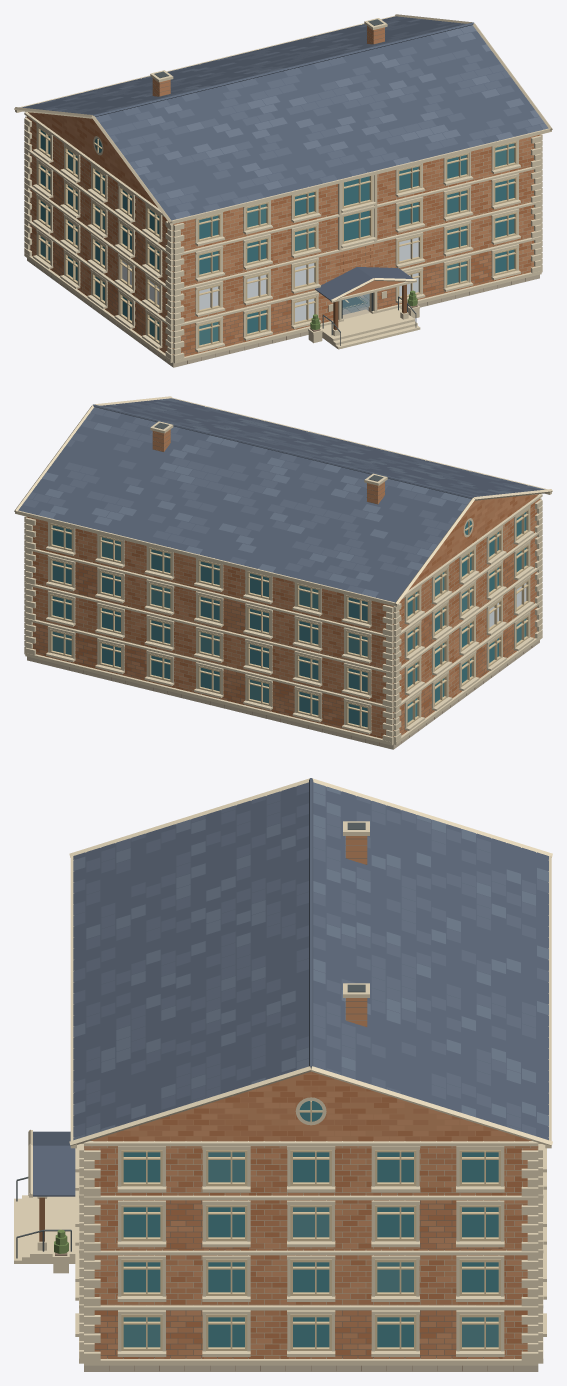
Rendered from SM_Dormitory_Blockout.fbx.
3 renders of one model, top to bottom at view 1: azimuth 30°, elevation 25°; view 2: azimuth 150°, elevation 25°; view 3: azimuth 270°, elevation 25°, orthographic. The views are drawn at different scales.
Parts seen in each view (by area): view 1: DORM_26_Slate_Courses.001, DORM_20_Brick_Front.001, DORM_25_Pitched_Roof.001, DORM_21_Stone_Strings.001, DORM_20_Brick_Left.001, DORM_03_Front_Windows_2.001, DORM_03_Front_Windows_3.001, DORM_03_Front_Windows_4.001, DORM_03_Front_Windows_1.001, DORM_22_Corner_Quoins.001, DORM_28_Stone_Bargeboards.001, DORM_03_Left_Windows_3.001 (+23 smaller); view 2: DORM_26_Slate_Courses.001, DORM_20_Brick_Rear.001, DORM_25_Pitched_Roof.001, DORM_21_Stone_Strings.001, DORM_20_Brick_Left.001, DORM_03_Rear_Windows_1.001, DORM_03_Rear_Windows_3.001, DORM_03_Rear_Windows_2.001, DORM_03_Rear_Windows_4.001, DORM_22_Corner_Quoins.001, DORM_28_Stone_Bargeboards.001, DORM_03_Left_Windows_3.001 (+15 smaller); view 3: DORM_26_Slate_Courses.001, DORM_20_Brick_Right.001, DORM_25_Pitched_Roof.001, DORM_27_Gable_Brick.001, DORM_21_Stone_Strings.001, DORM_03_Right_Windows_3.001, DORM_03_Right_Windows_1.001, DORM_03_Right_Windows_4.001, DORM_03_Right_Windows_2.001, DORM_22_Corner_Quoins.001, DORM_28_Stone_Bargeboards.001, DORM_01_Plinth.001 (+9 smaller).
Boxes of the visible parts, x1=… form: DORM_26_Slate_Courses.001: x1=22, y1=16, x2=548, y2=220; DORM_20_Brick_Front.001: x1=173, y1=134, x2=540, y2=356; DORM_25_Pitched_Roof.001: x1=24, y1=17, x2=544, y2=218; DORM_21_Stone_Strings.001: x1=24, y1=111, x2=542, y2=363; DORM_20_Brick_Left.001: x1=27, y1=117, x2=173, y2=354; DORM_03_Front_Windows_2.001: x1=195, y1=208, x2=520, y2=316; DORM_03_Front_Windows_3.001: x1=195, y1=173, x2=520, y2=281; DORM_03_Front_Windows_4.001: x1=195, y1=140, x2=520, y2=246; DORM_03_Front_Windows_1.001: x1=195, y1=244, x2=520, y2=352; DORM_22_Corner_Quoins.001: x1=24, y1=116, x2=542, y2=360; DORM_28_Stone_Bargeboards.001: x1=14, y1=14, x2=552, y2=224; DORM_03_Left_Windows_3.001: x1=33, y1=158, x2=162, y2=277; DORM_26_Slate_Courses.001: x1=18, y1=398, x2=544, y2=602; DORM_20_Brick_Rear.001: x1=26, y1=516, x2=393, y2=738; DORM_25_Pitched_Roof.001: x1=22, y1=399, x2=542, y2=600; DORM_21_Stone_Strings.001: x1=24, y1=493, x2=542, y2=745; DORM_20_Brick_Left.001: x1=393, y1=499, x2=539, y2=736; DORM_03_Rear_Windows_1.001: x1=46, y1=626, x2=371, y2=734; DORM_03_Rear_Windows_3.001: x1=46, y1=555, x2=371, y2=663; DORM_03_Rear_Windows_2.001: x1=46, y1=590, x2=371, y2=698; DORM_03_Rear_Windows_4.001: x1=46, y1=522, x2=371, y2=628; DORM_22_Corner_Quoins.001: x1=24, y1=498, x2=542, y2=742; DORM_28_Stone_Bargeboards.001: x1=14, y1=396, x2=552, y2=606; DORM_03_Left_Windows_3.001: x1=404, y1=540, x2=533, y2=659; DORM_26_Slate_Courses.001: x1=73, y1=782, x2=548, y2=1140; DORM_20_Brick_Right.001: x1=84, y1=1146, x2=538, y2=1358; DORM_25_Pitched_Roof.001: x1=74, y1=786, x2=547, y2=1137; DORM_27_Gable_Brick.001: x1=90, y1=1071, x2=531, y2=1141; DORM_21_Stone_Strings.001: x1=79, y1=1141, x2=543, y2=1365; DORM_03_Right_Windows_3.001: x1=117, y1=1200, x2=504, y2=1247; DORM_03_Right_Windows_1.001: x1=117, y1=1310, x2=504, y2=1356; DORM_03_Right_Windows_4.001: x1=117, y1=1146, x2=504, y2=1192; DORM_03_Right_Windows_2.001: x1=117, y1=1255, x2=504, y2=1301; DORM_22_Corner_Quoins.001: x1=79, y1=1144, x2=542, y2=1360; DORM_28_Stone_Bargeboards.001: x1=69, y1=778, x2=552, y2=1148; DORM_01_Plinth.001: x1=84, y1=1365, x2=538, y2=1371.
Bounding box in the file's own units: 2722 × 2135 × 1425.
